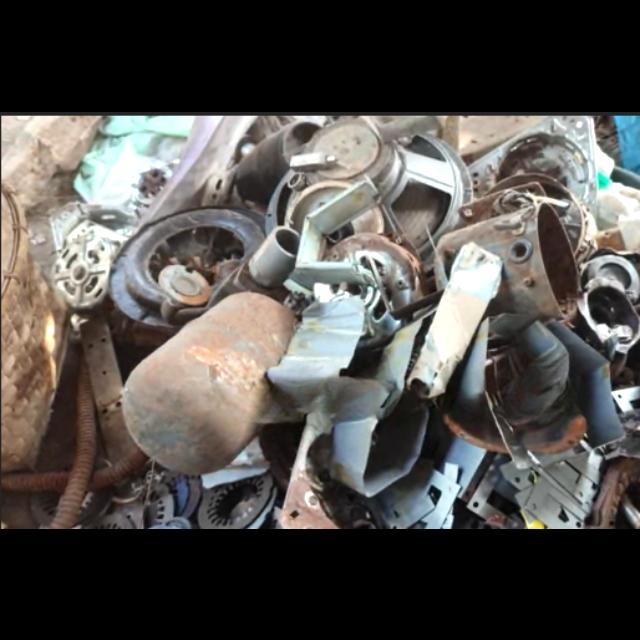Cylinders: (121, 287, 300, 479)
